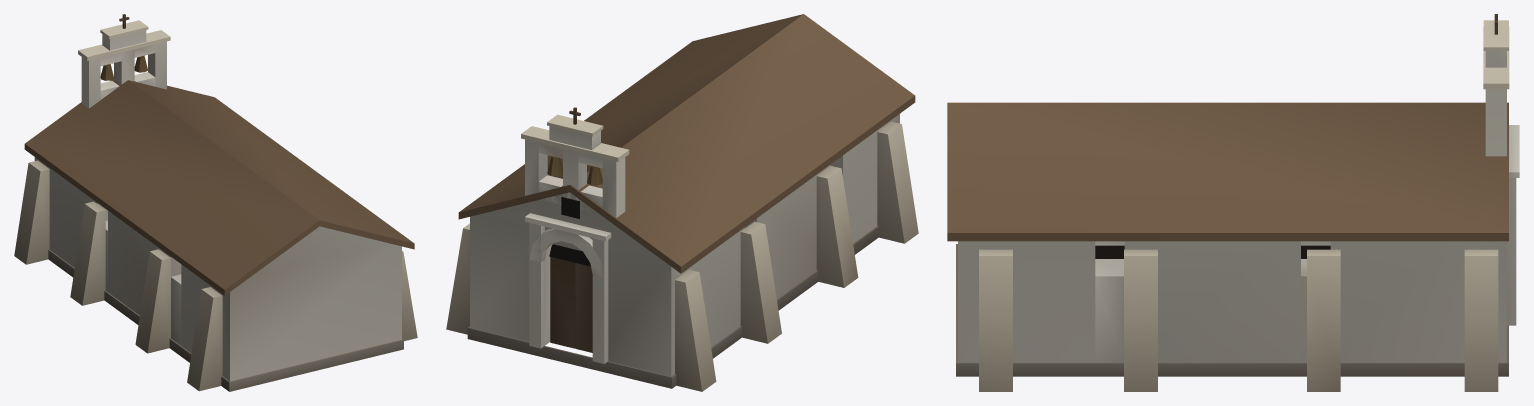
File: casa_capilla_a_lod.glb
3 views of the same model, side by side, from view 1: azimuth 30°, elevation 25°; view 2: azimuth 150°, elevation 25°; view 3: azimuth 270°, elevation 25° (orthographic). The views are drawn at different scales.
Parts seen in each view (by area): view 1: casa_capilla_a; view 2: casa_capilla_a; view 3: casa_capilla_a.
Part boxes in pixels (box(x1,y1,x2,y2)): casa_capilla_a: box(14, 14, 417, 391); casa_capilla_a: box(446, 14, 918, 391); casa_capilla_a: box(947, 14, 1519, 391).
Size of the model in its own units: 8.4 by 7.9 by 13.55.
